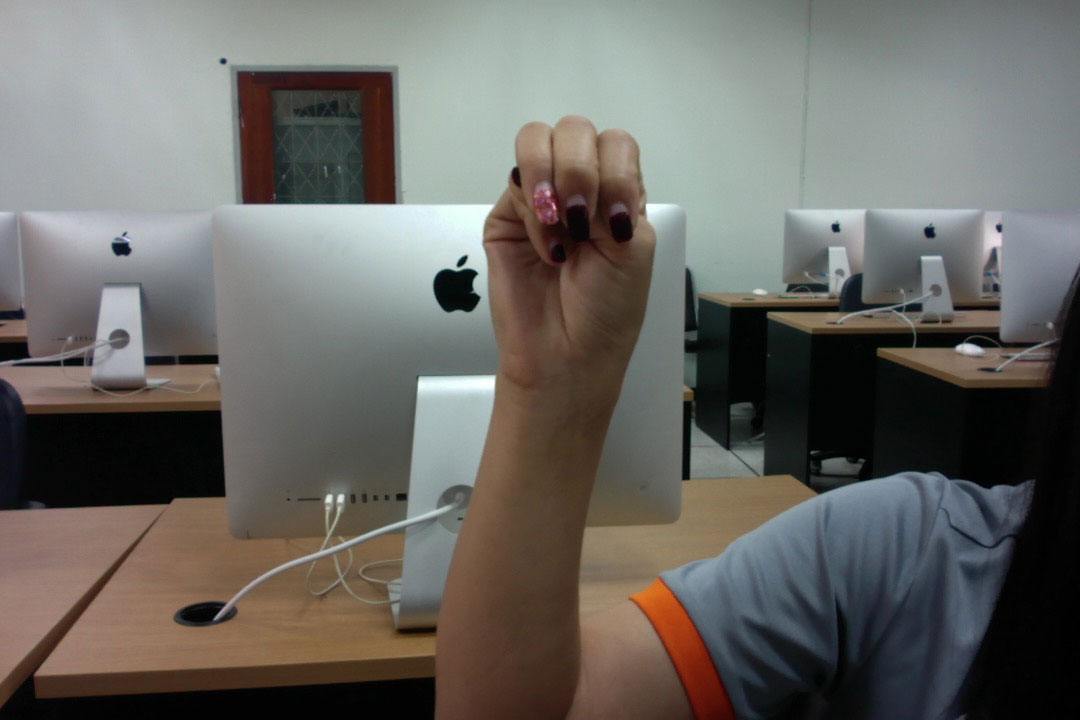mor: (476, 102, 663, 401)
